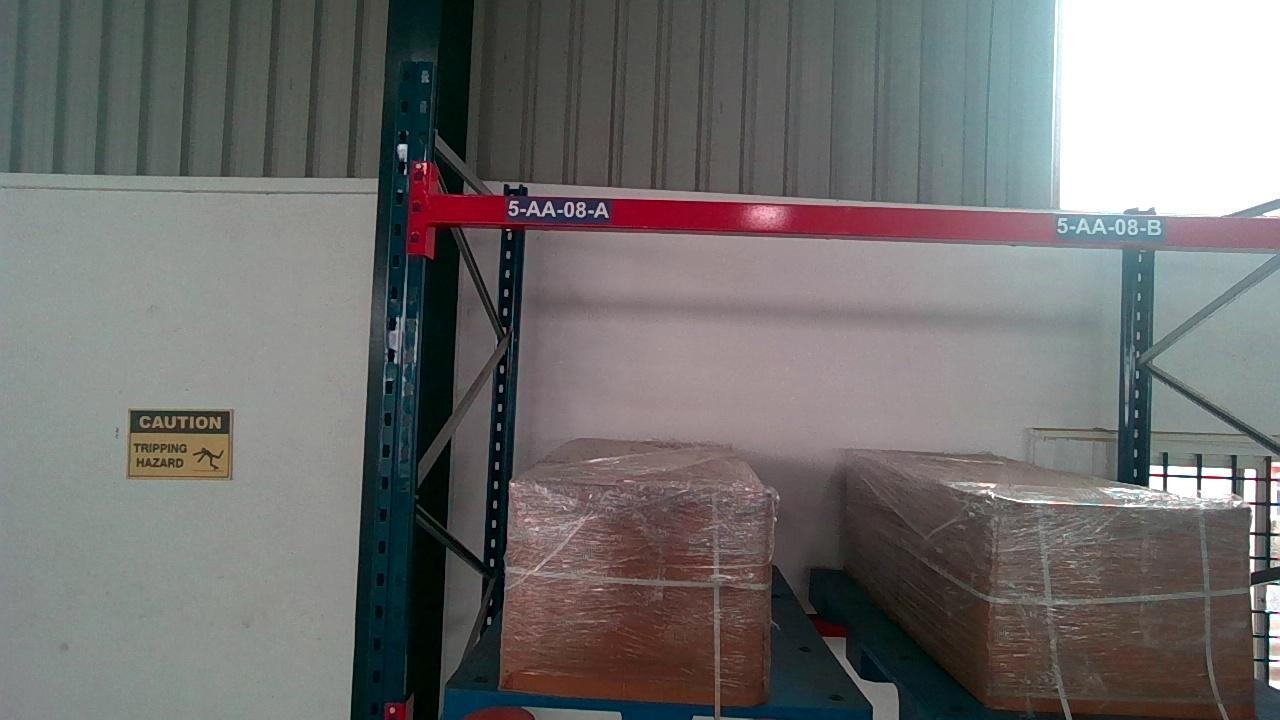h_rack: (435, 196, 1280, 253)
small_pallet: (447, 700, 862, 720)
